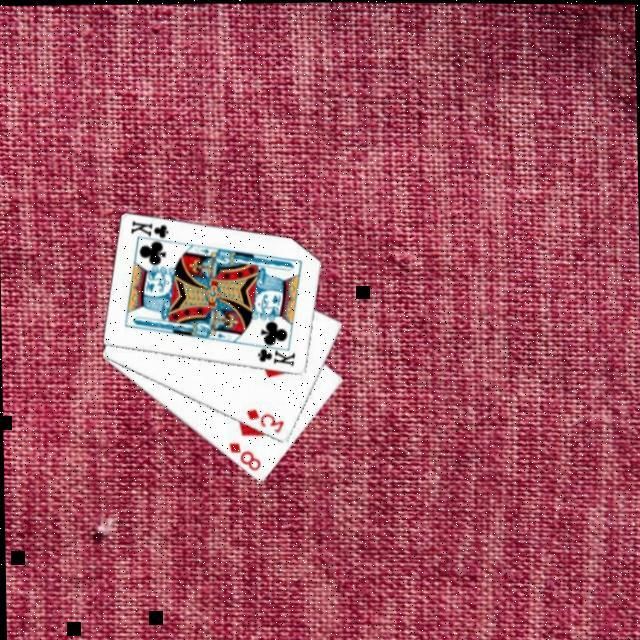3D: (240, 403, 285, 434)
8D: (224, 437, 262, 472)
KC: (250, 338, 295, 368), (126, 216, 172, 245)
